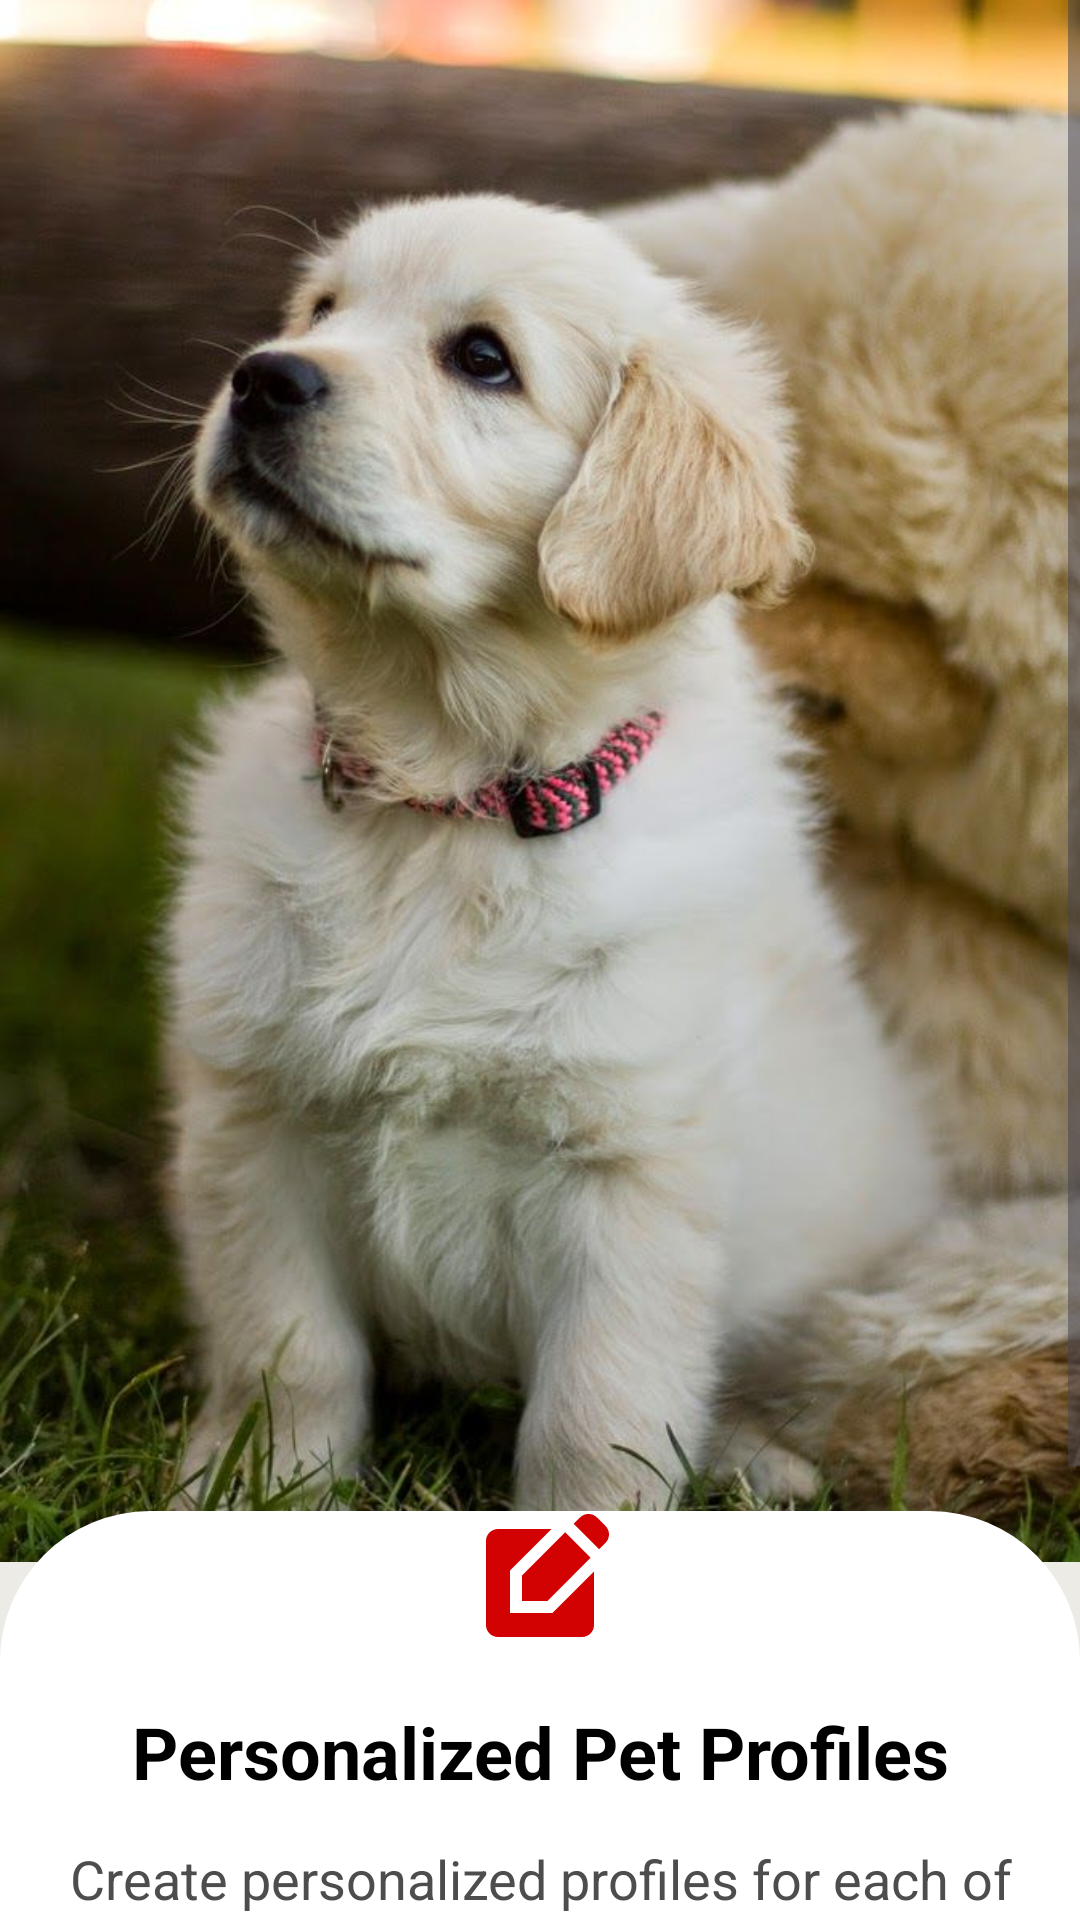

Locate icon controls on the screen. Image size 1080px×1920px, boxes as (x1, y1, x2, y2).
edit square: (486, 1514, 609, 1637)
